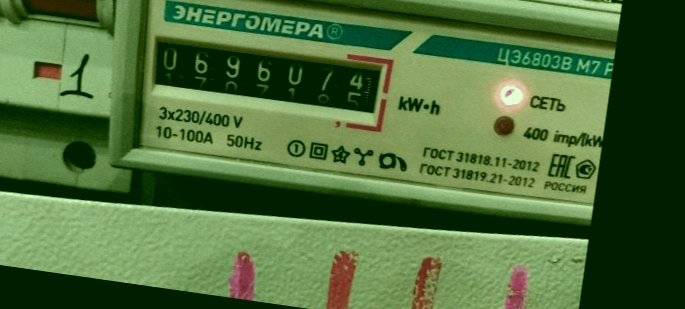0: (159, 43, 182, 70), (285, 57, 306, 86)
4: (347, 65, 366, 89)
5: (344, 88, 363, 110)
6: (254, 53, 275, 82), (191, 46, 212, 73)
7: (317, 63, 336, 91)
9: (223, 50, 242, 78)
screen: (137, 20, 398, 135)
